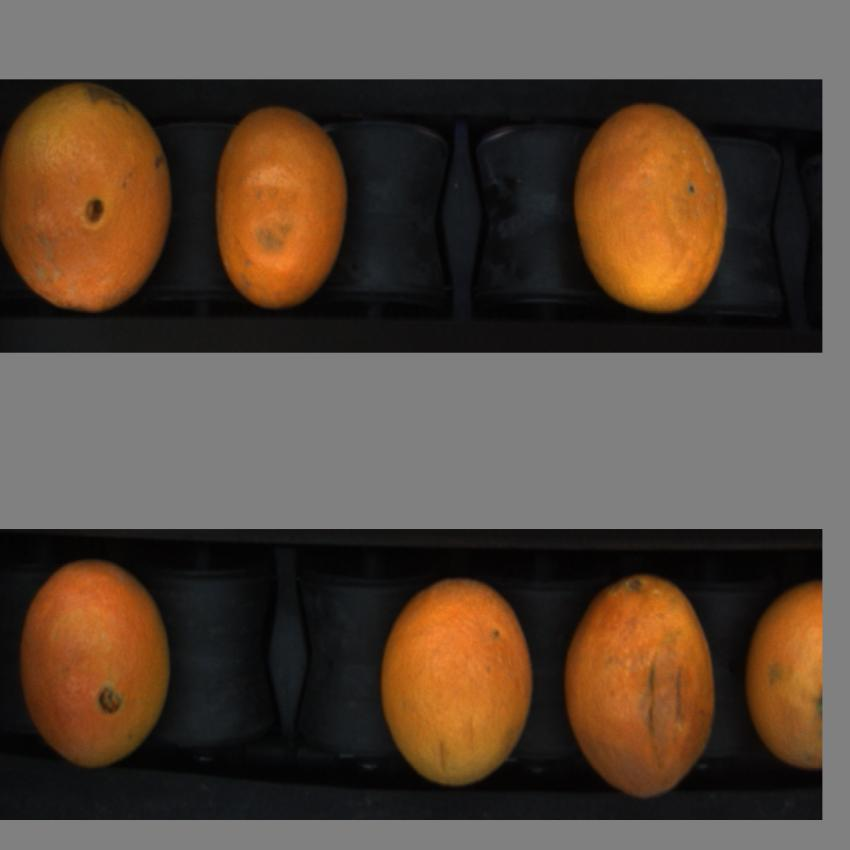Buen estado: (10, 553, 192, 787), (377, 567, 542, 800), (742, 567, 824, 787)
Mal estado: (2, 86, 180, 322), (558, 568, 728, 813), (571, 98, 746, 324), (204, 98, 367, 332)
